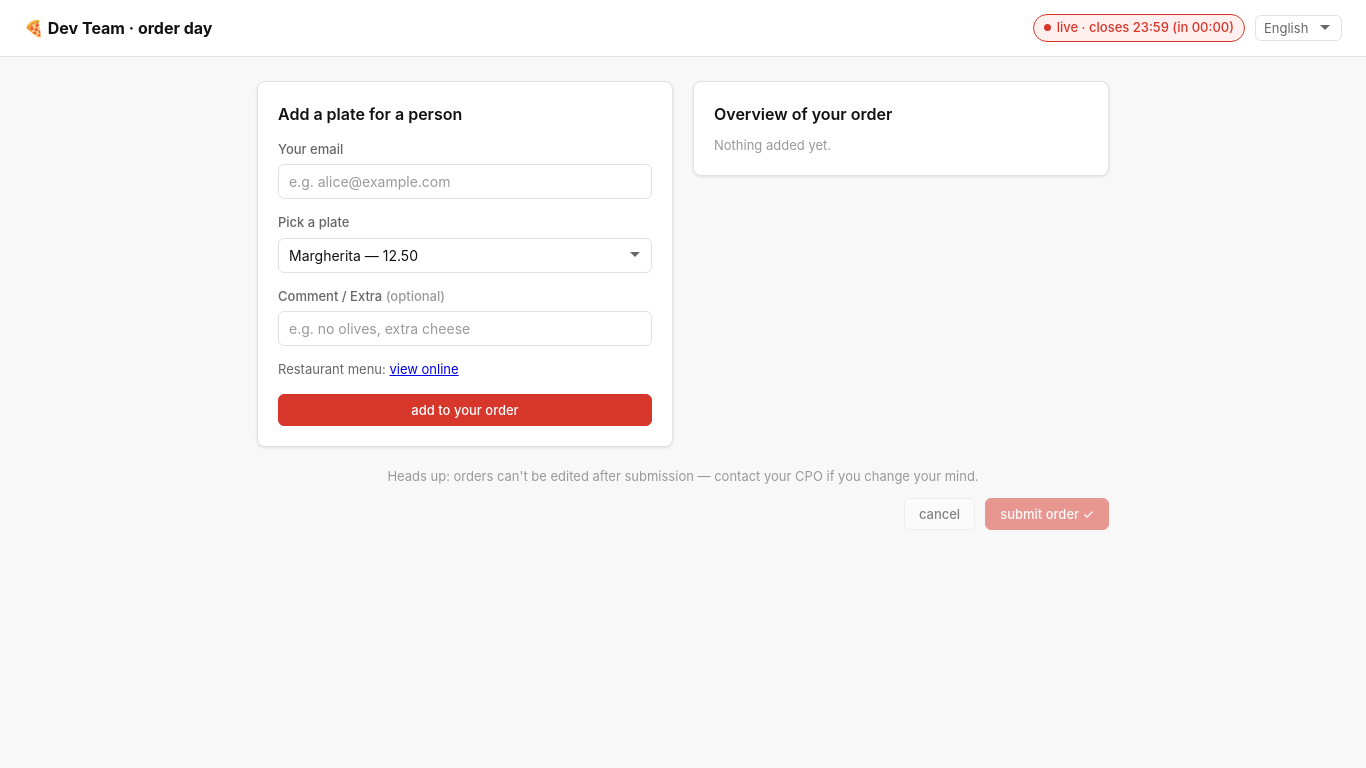
Scenario: TeamOrderPage › email mode › adds a cart row showing the email
The image size is (1366, 768).
Type "alice@example.com" into the field labelled "Your email" at (465, 182), box [278, 164, 652, 199]
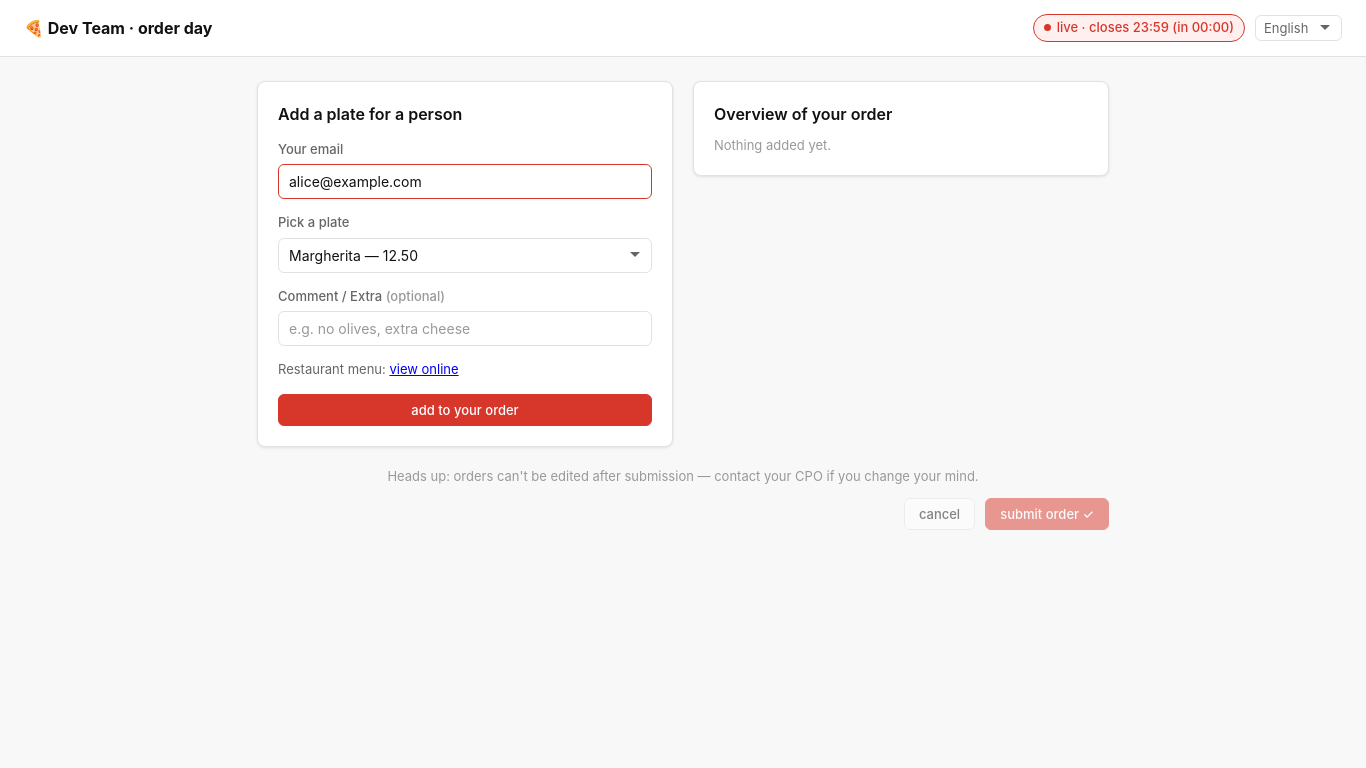
Click the button "add to your order" at (465, 410), box [278, 394, 652, 426]
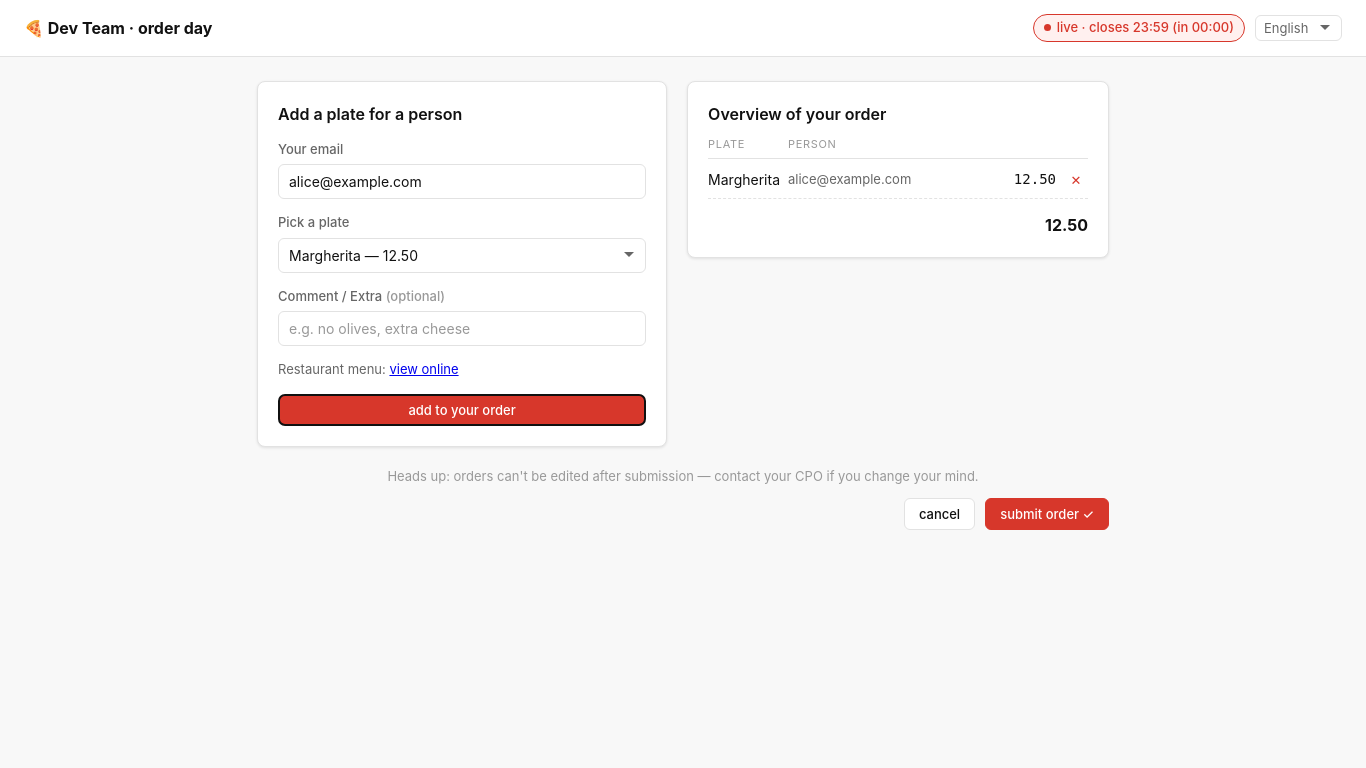
expect the text "alice@example.com" is shown: met, box [788, 171, 911, 187]
